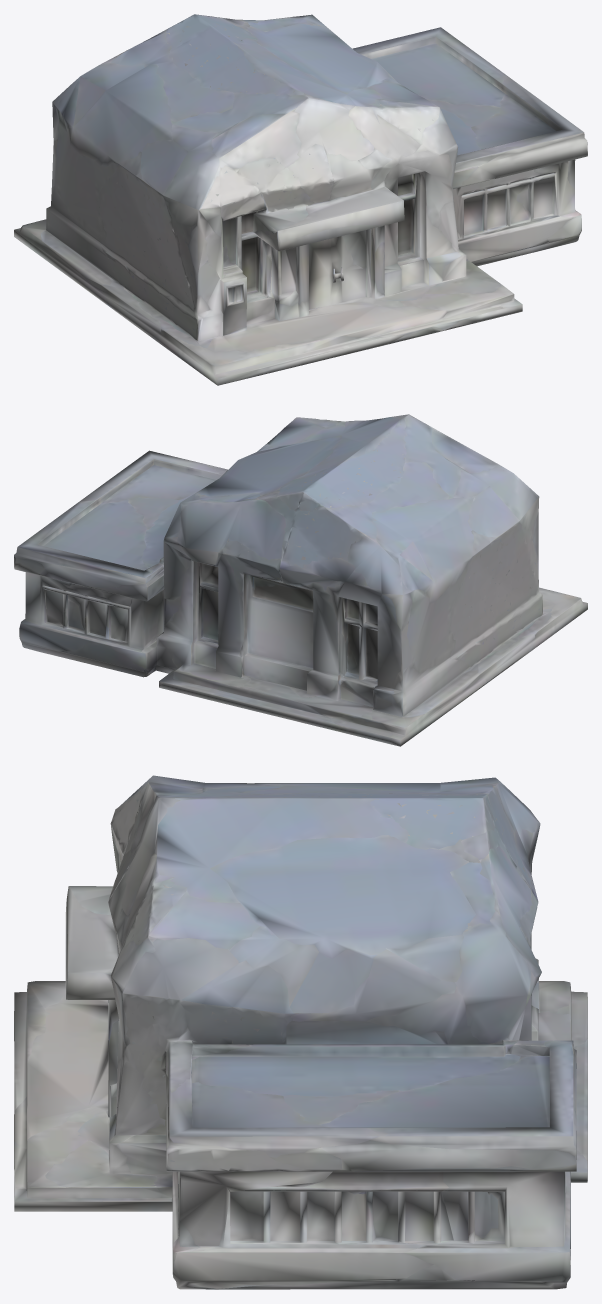
Rendered from service.glb.
The picture shows the model from 3 angles, top to bottom: view 1: azimuth 30°, elevation 25°; view 2: azimuth 150°, elevation 25°; view 3: azimuth 270°, elevation 25°; orthographic projection. The views are drawn at different scales.
Visible parts, largest first — view 1: node_0; view 2: node_0; view 3: node_0.
Part boxes in pixels (<box>): node_0: <box>14,14,587,385</box>; node_0: <box>14,414,587,746</box>; node_0: <box>14,775,587,1289</box>.
Size of the model in its own units: 0.8653 by 0.4194 by 0.7201.
Materials: 1 (1 with a texture image).
